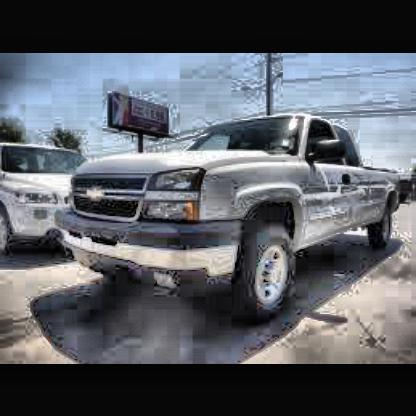Chevrolet Silverado 1500 Classic Extended Cab 2007: (54, 114, 402, 321)
